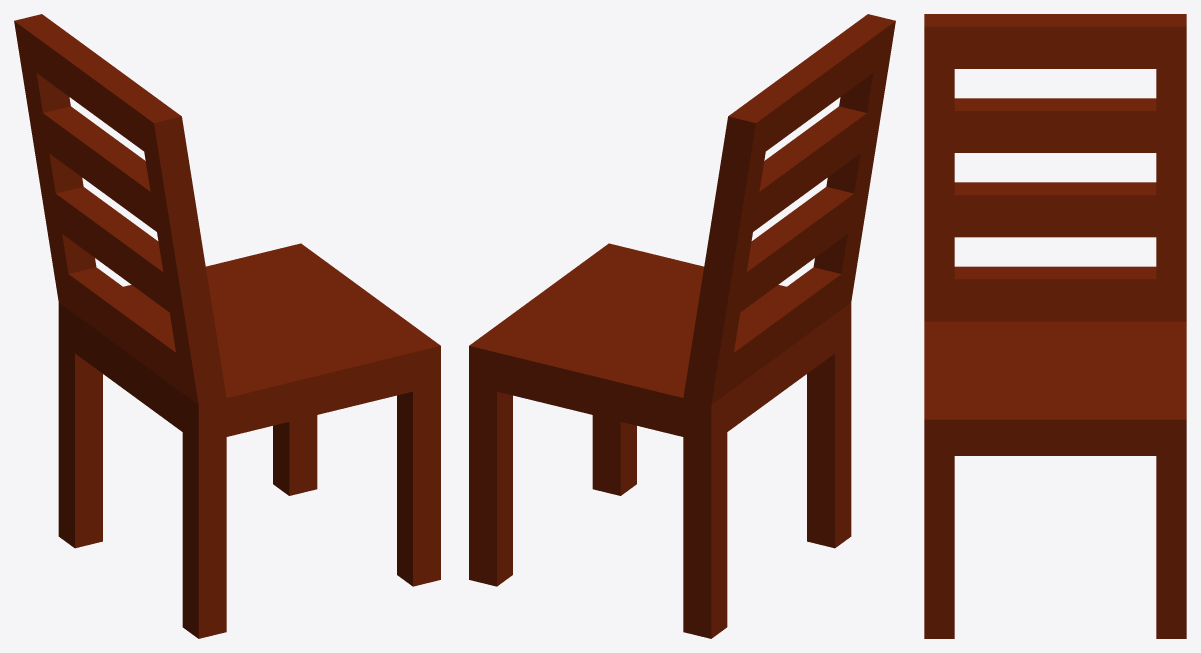
Rendered from Chaise_1.glb.
3 views of the same model, side by side, from view 1: azimuth 30°, elevation 25°; view 2: azimuth 150°, elevation 25°; view 3: azimuth 270°, elevation 25° (orthographic). The views are drawn at different scales.
Visible parts, largest first — view 1: Cube; view 2: Cube; view 3: Cube.
Part boxes in pixels (bbox=[...]): Cube: bbox=[14, 14, 440, 638]; Cube: bbox=[469, 14, 895, 638]; Cube: bbox=[924, 14, 1186, 638].
Bounding box in the file's own units: 0.5774 × 1.01 × 0.4875.
